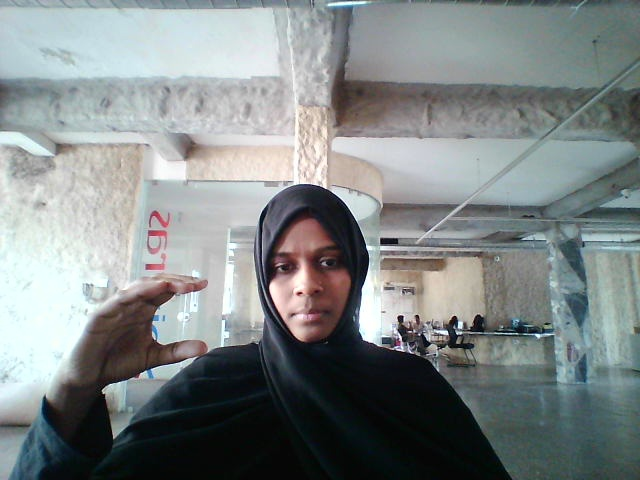NO: (59, 253, 212, 406)
